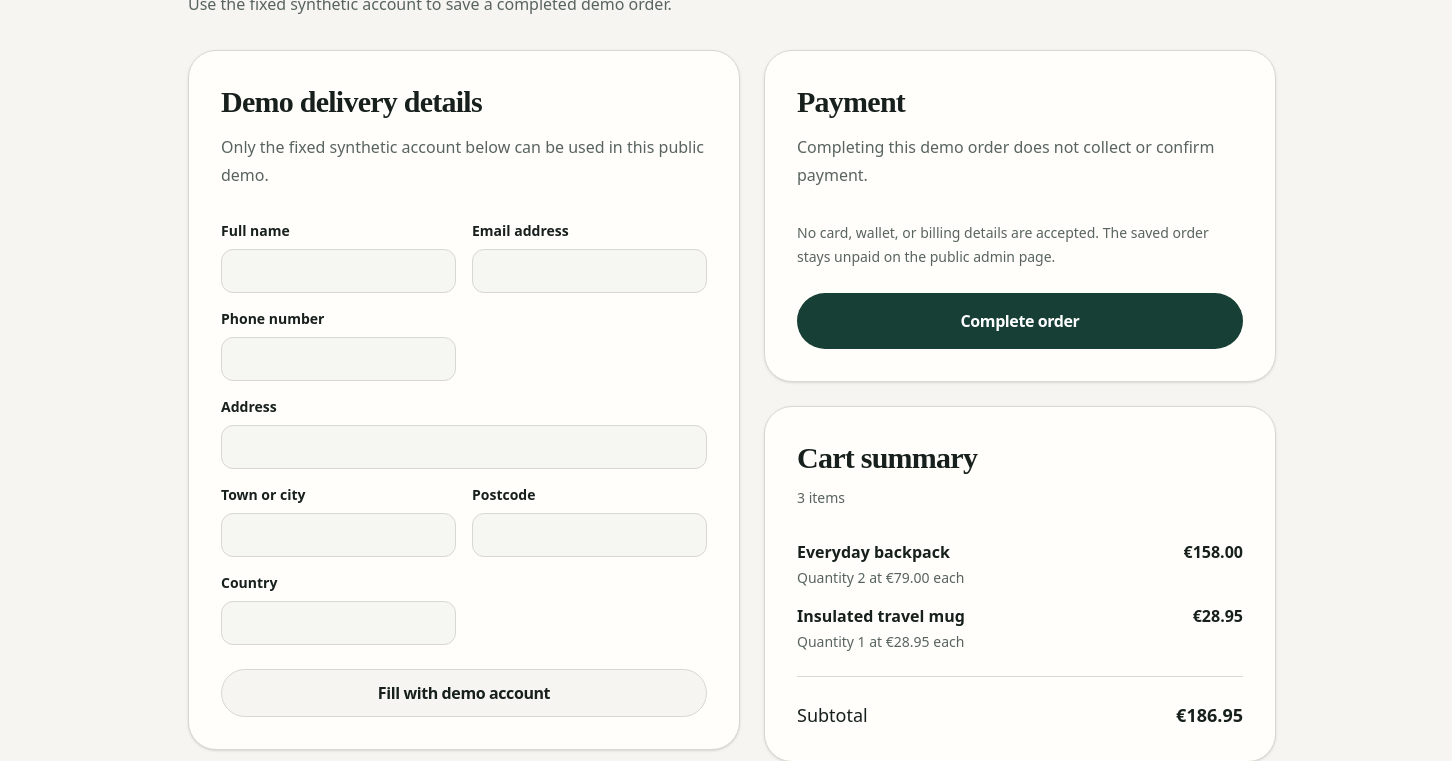
it: CheckoutPage › rejects an invalid confirmation without clearing the cart
This screenshot has width=1452, height=761.
(page scrolled)
Click the button "Fill with demo account" at (464, 692), box x1=221 y1=668 x2=707 y2=716
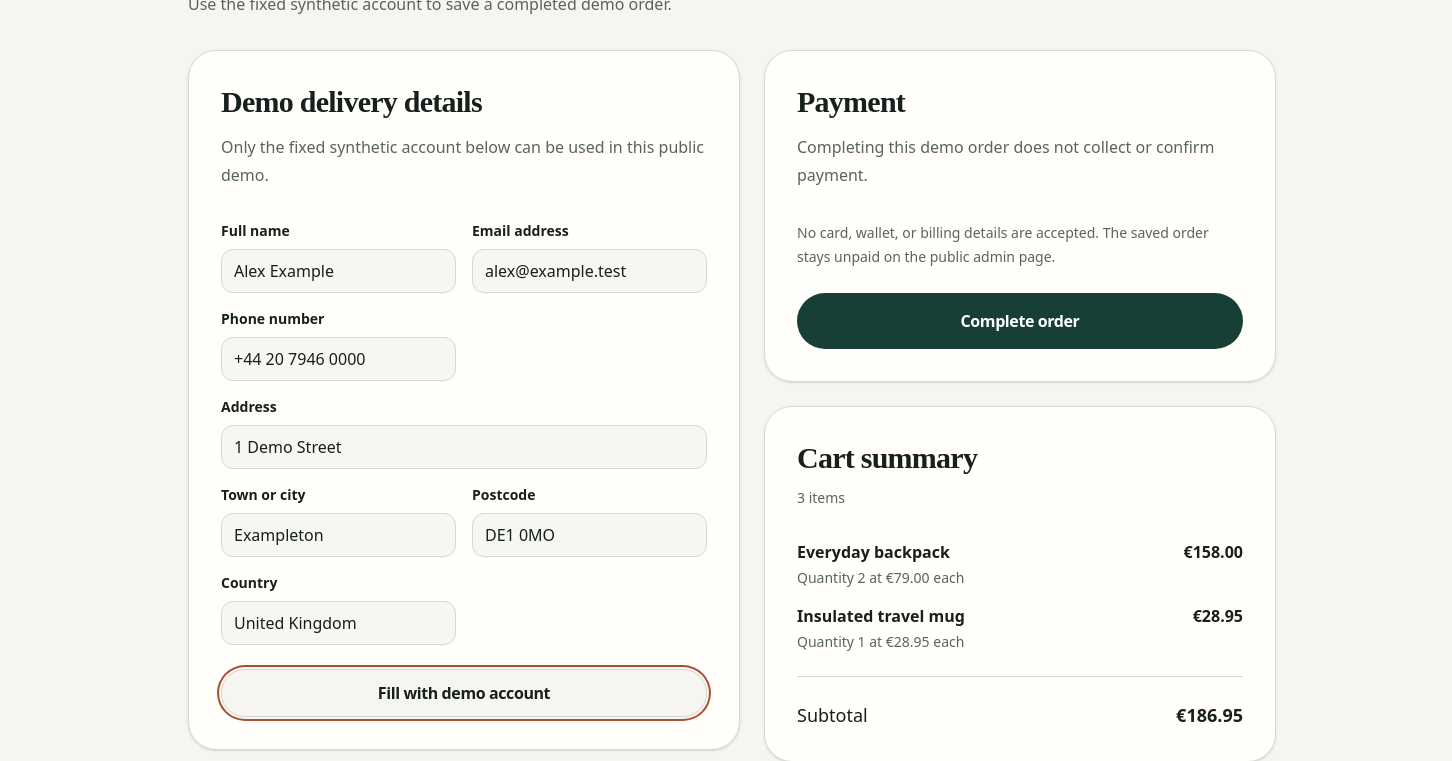
Click the button "Complete order" at (1020, 320), box x1=797 y1=292 x2=1243 y2=348
(page scrolled)
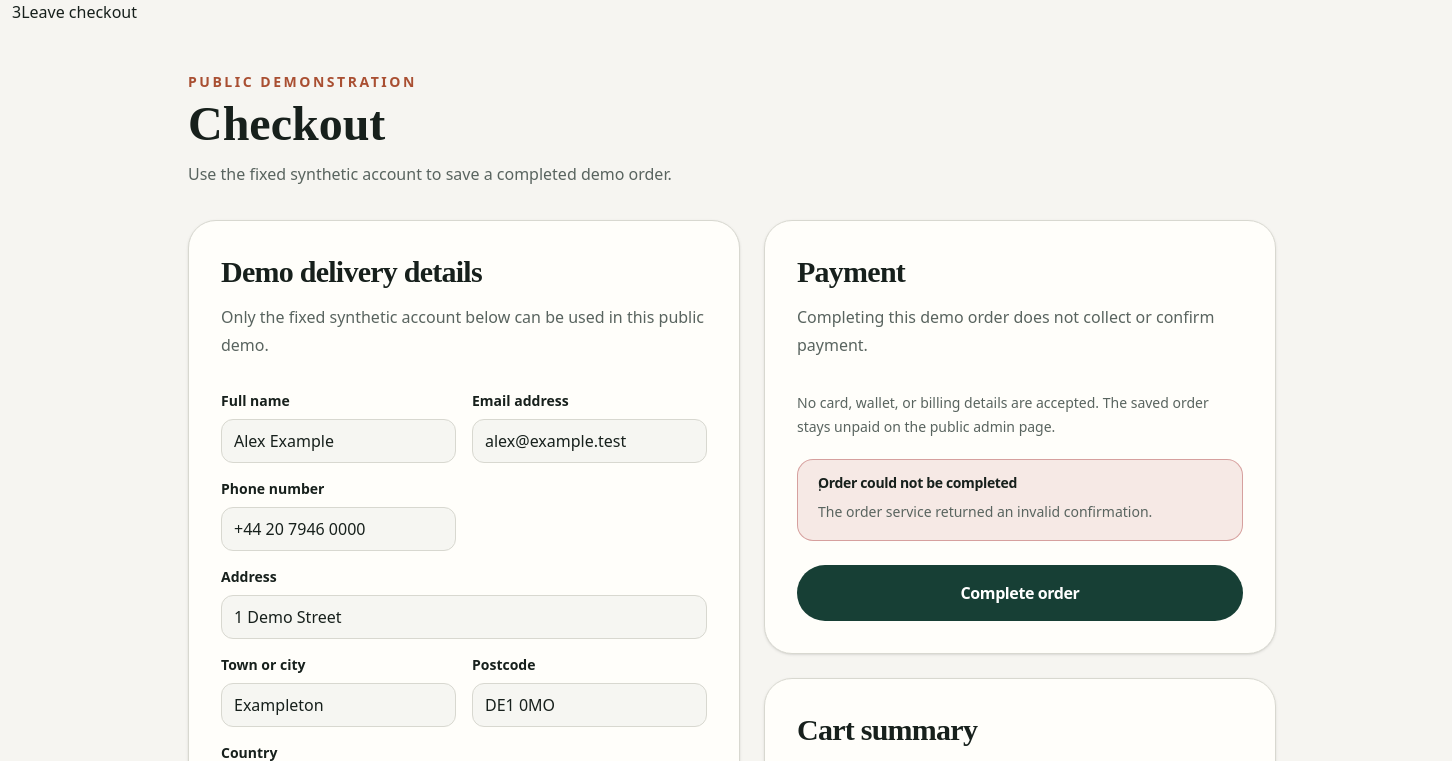
Expected: the text named "Cart item count" reads "3", x1=12 y1=1 x2=21 y2=23
Result: the message shows "The order service returned an invalid confirmation." at x1=818 y1=502 x2=1152 y2=520
